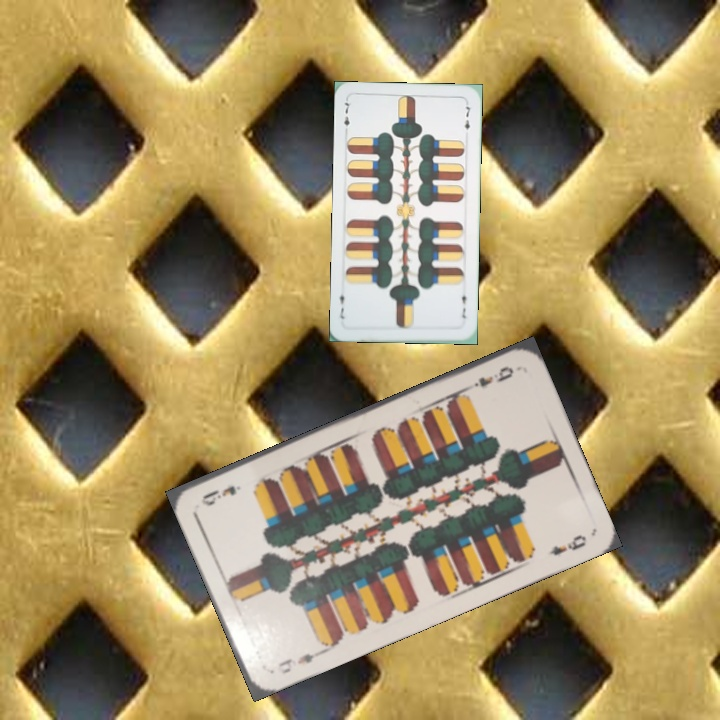E7: (340, 96, 352, 137), (457, 287, 469, 321)
E9: (274, 646, 324, 677), (463, 362, 516, 391)
